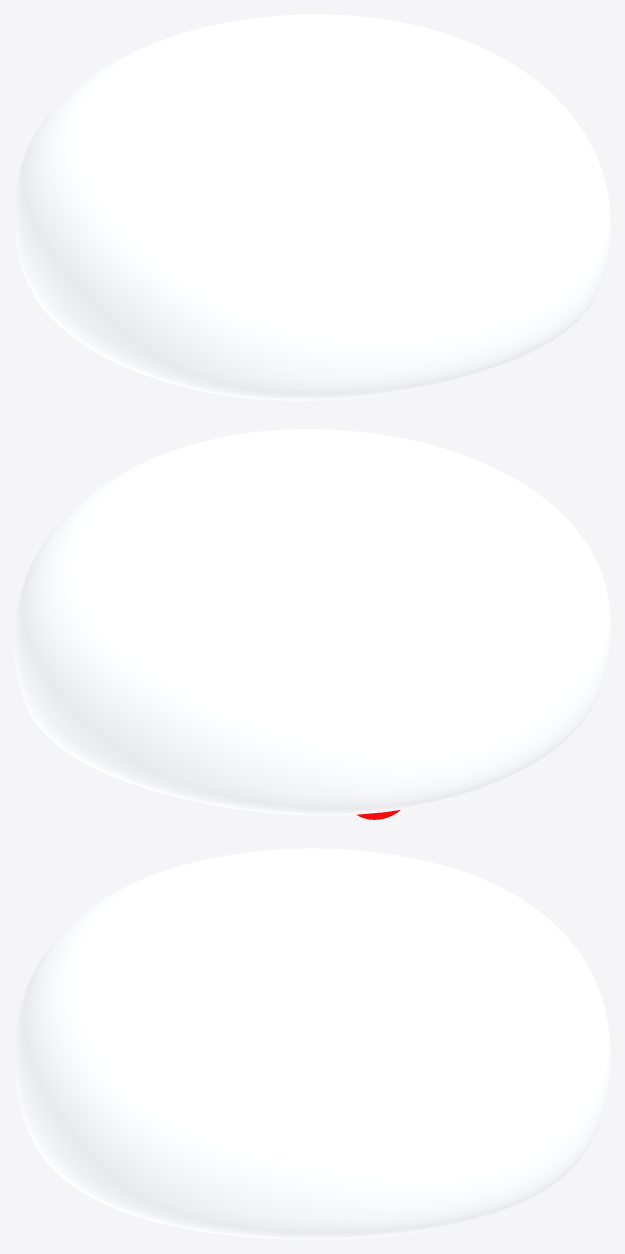
3 renders of one model, top to bottom at view 1: azimuth 30°, elevation 25°; view 2: azimuth 150°, elevation 25°; view 3: azimuth 270°, elevation 25°, orthographic. The views are drawn at different scales.
Parts seen in each view (by area): view 1: Curve.001_BG_0; view 2: Curve.001_BG_0; view 3: Curve.001_BG_0.
Part boxes in pixels (x1,y1,x2,y2): Curve.001_BG_0: [14, 14, 610, 400]; Curve.001_BG_0: [14, 429, 610, 815]; Curve.001_BG_0: [14, 848, 610, 1239].
Size of the model in its own units: 9025 by 3961 by 9025.
16 materials, 16 textured.
